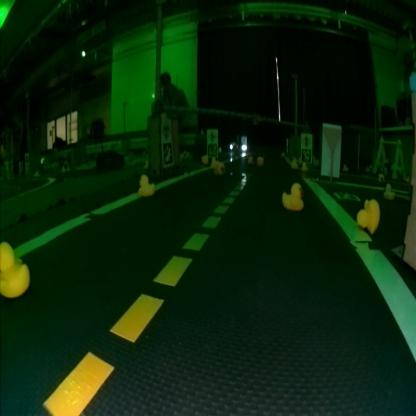Duckie: (2, 242, 30, 296), (358, 198, 380, 233), (283, 182, 305, 210), (139, 174, 156, 195), (214, 160, 224, 174), (387, 183, 394, 199), (258, 157, 264, 165), (249, 156, 255, 164)
Intersection sign: (162, 120, 172, 138), (209, 129, 217, 141)
QR code: (162, 141, 174, 164), (336, 192, 359, 200), (207, 143, 218, 156), (302, 148, 312, 160)
Signal sign: (302, 134, 312, 148)
